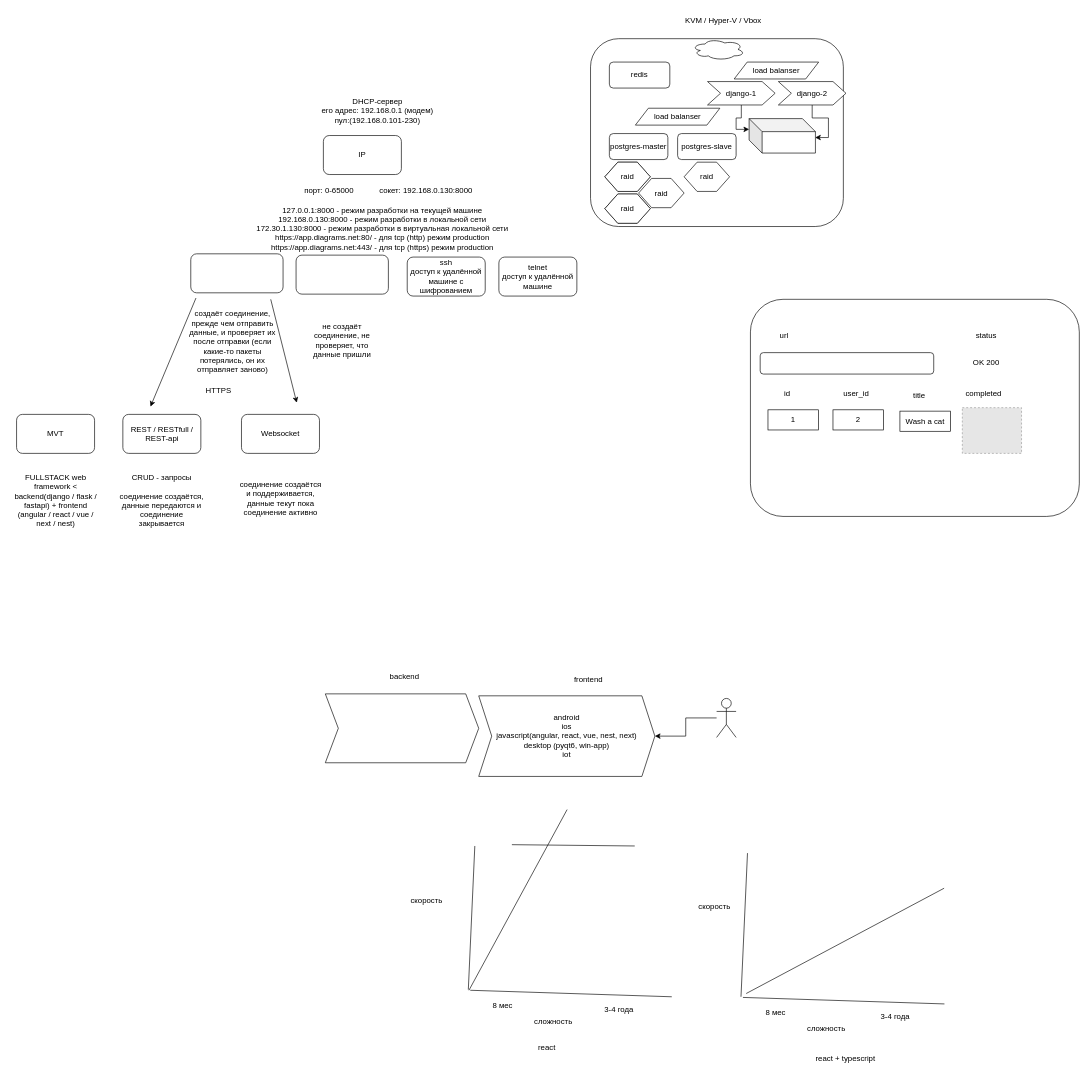
This 1091x1080 diagram has some shape labels left out. Grey dashed boxes stand in for pictures. Each missing label, with the box of its shape:
Actor: (716, 698, 736, 737)
cdn: (691, 38, 745, 60)
django / flask / fastapi / tornado go / rust / .dotnet / c++ / node js: (325, 693, 479, 763)
http://192.168.0.101:8000/api/todos_drf/1/: (760, 352, 934, 374)
static: (748, 118, 815, 153)
TCP протокол транспортного уровня: (190, 253, 283, 293)
UDP протокол транспортного уровня: (295, 254, 388, 294)
